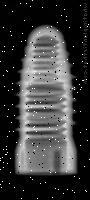Camlog: (14, 22, 78, 174)
